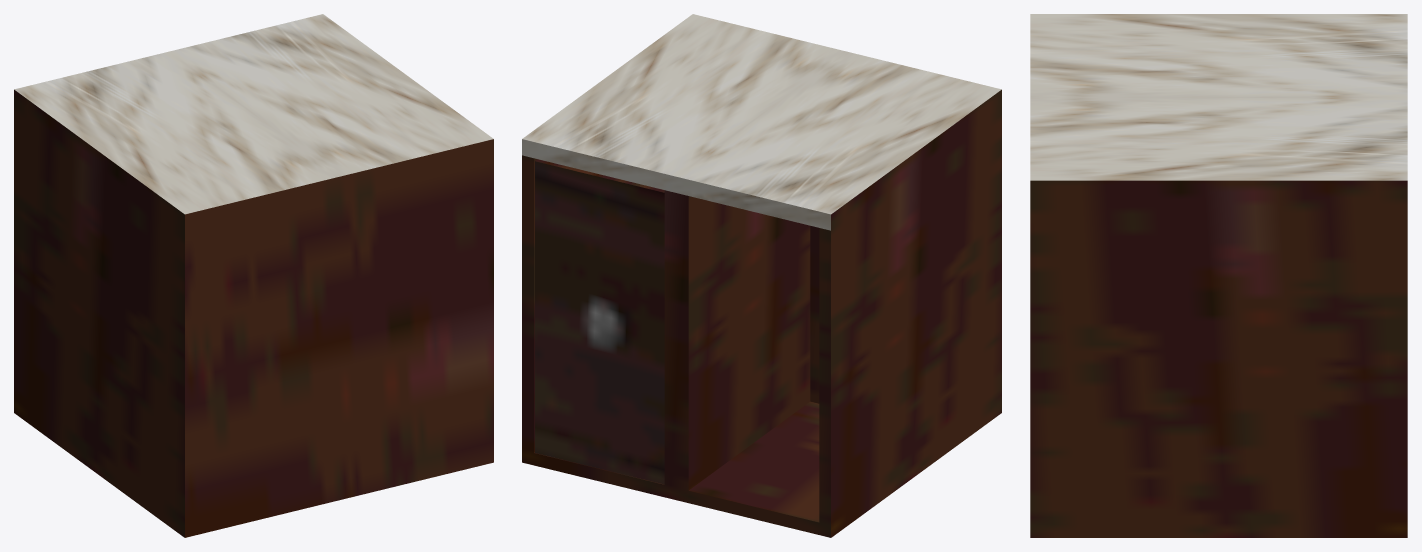
Rendered from KitchenCabnet.fbx.
3 views of the same model, side by side, from view 1: azimuth 30°, elevation 25°; view 2: azimuth 150°, elevation 25°; view 3: azimuth 270°, elevation 25° (orthographic). The views are drawn at different scales.
Visible parts, largest first — view 1: KitchenCabnet; view 2: KitchenCabnet, KitchenCabnetDoor; view 3: KitchenCabnet.
Part boxes in pixels (x1,y1,x2,y2): KitchenCabnet: (14, 14, 493, 537); KitchenCabnet: (522, 14, 1001, 537); KitchenCabnetDoor: (535, 159, 664, 484); KitchenCabnet: (1030, 14, 1407, 537).
Bounding box in the file's own units: 100 × 100 × 95.73.
